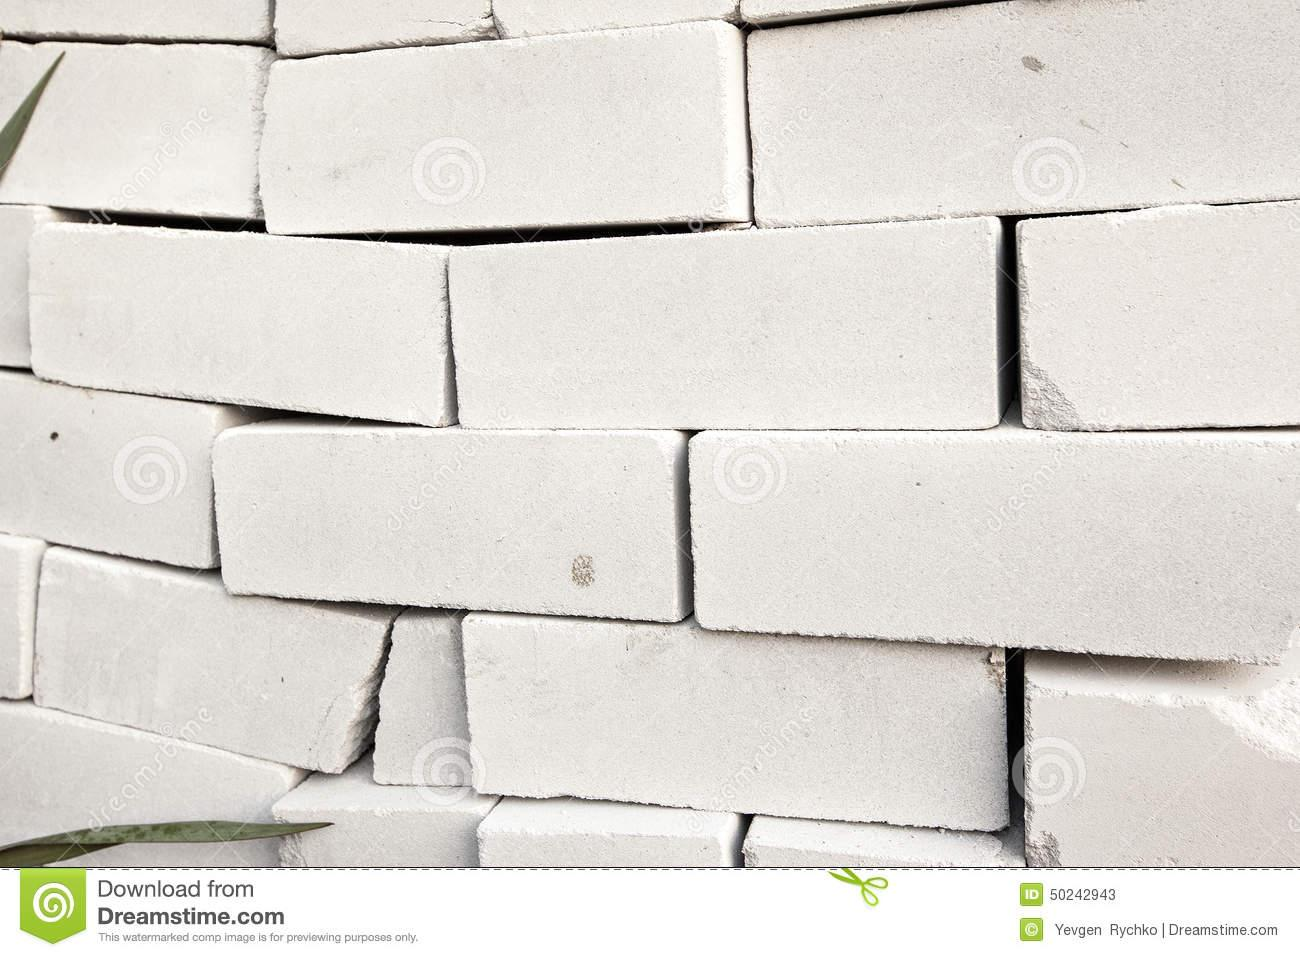brick: (690, 434, 1300, 662), (746, 0, 1296, 228), (460, 617, 1007, 830), (451, 217, 996, 429), (260, 18, 748, 232), (214, 423, 677, 619), (31, 220, 442, 424), (28, 549, 388, 772), (1018, 203, 1300, 431), (1024, 664, 1300, 865), (0, 368, 227, 569), (2, 40, 267, 212)
